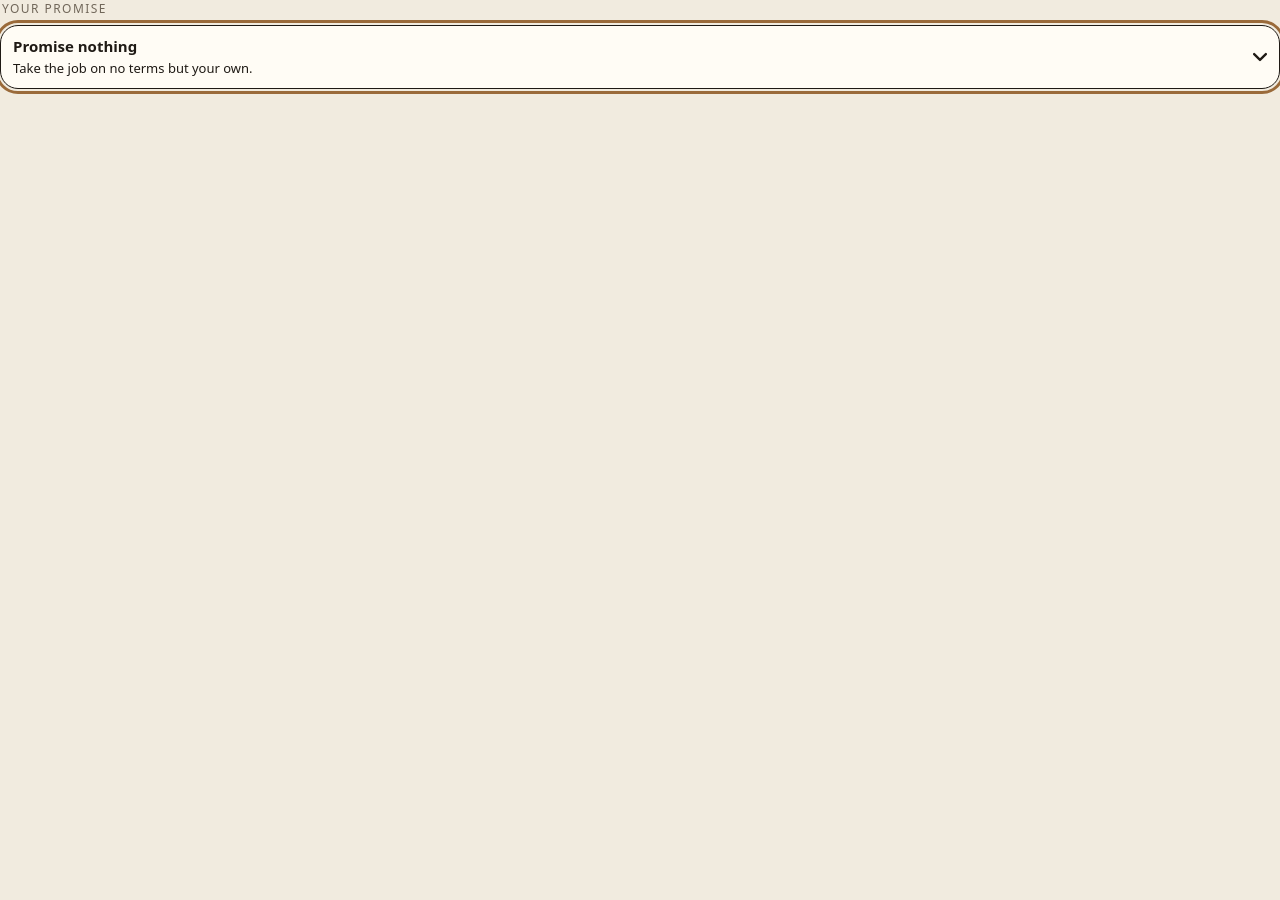
Test: a second promise › lets go of a second that cannot stand beside a new first, and keeps one that can
Later steps or results of the test are not shown.
Click the button with class "mandate-current". click: (75, 46)
box: [0,25,1279,89]
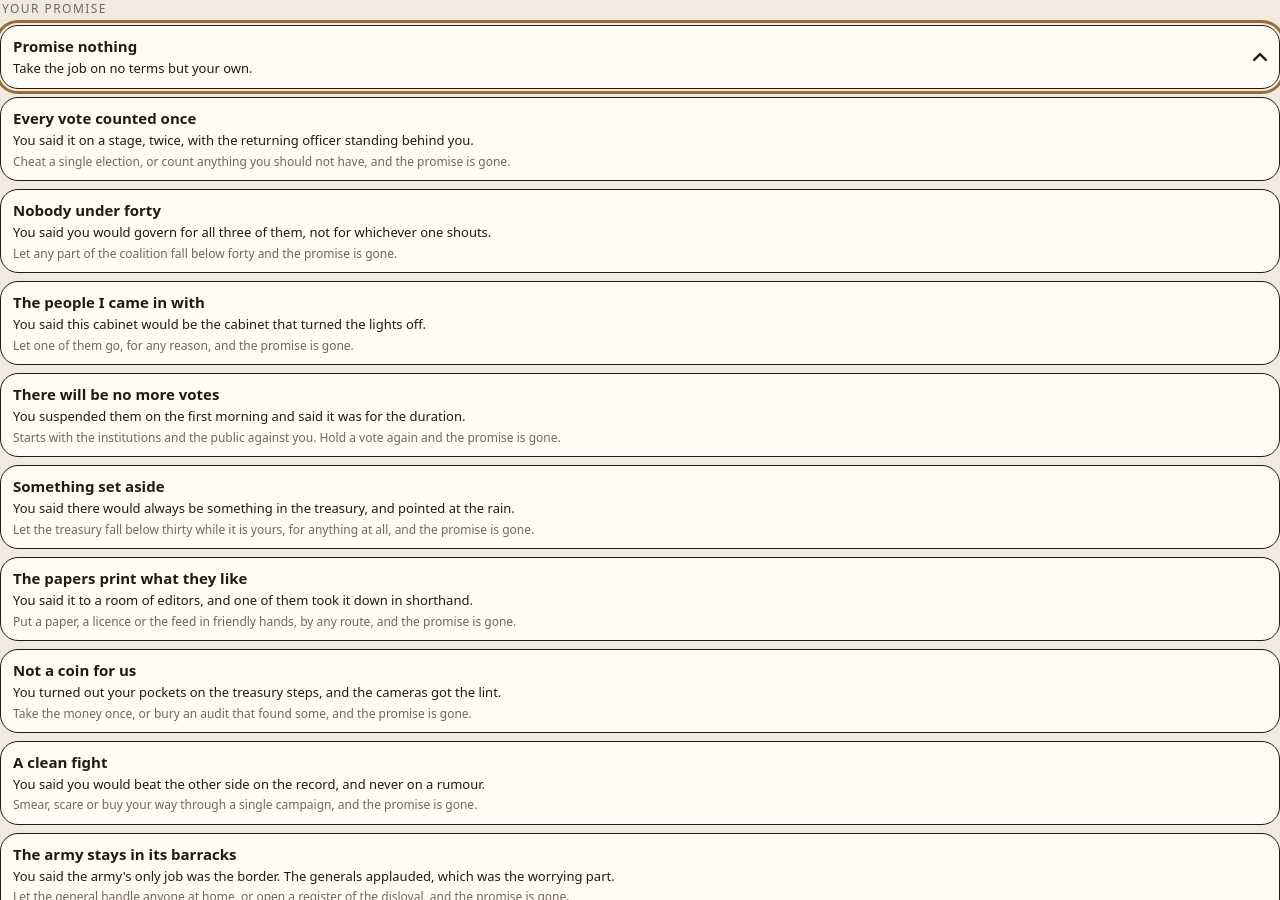
Click the button "The people I came in with". click: (109, 302)
box: [0,281,1279,365]
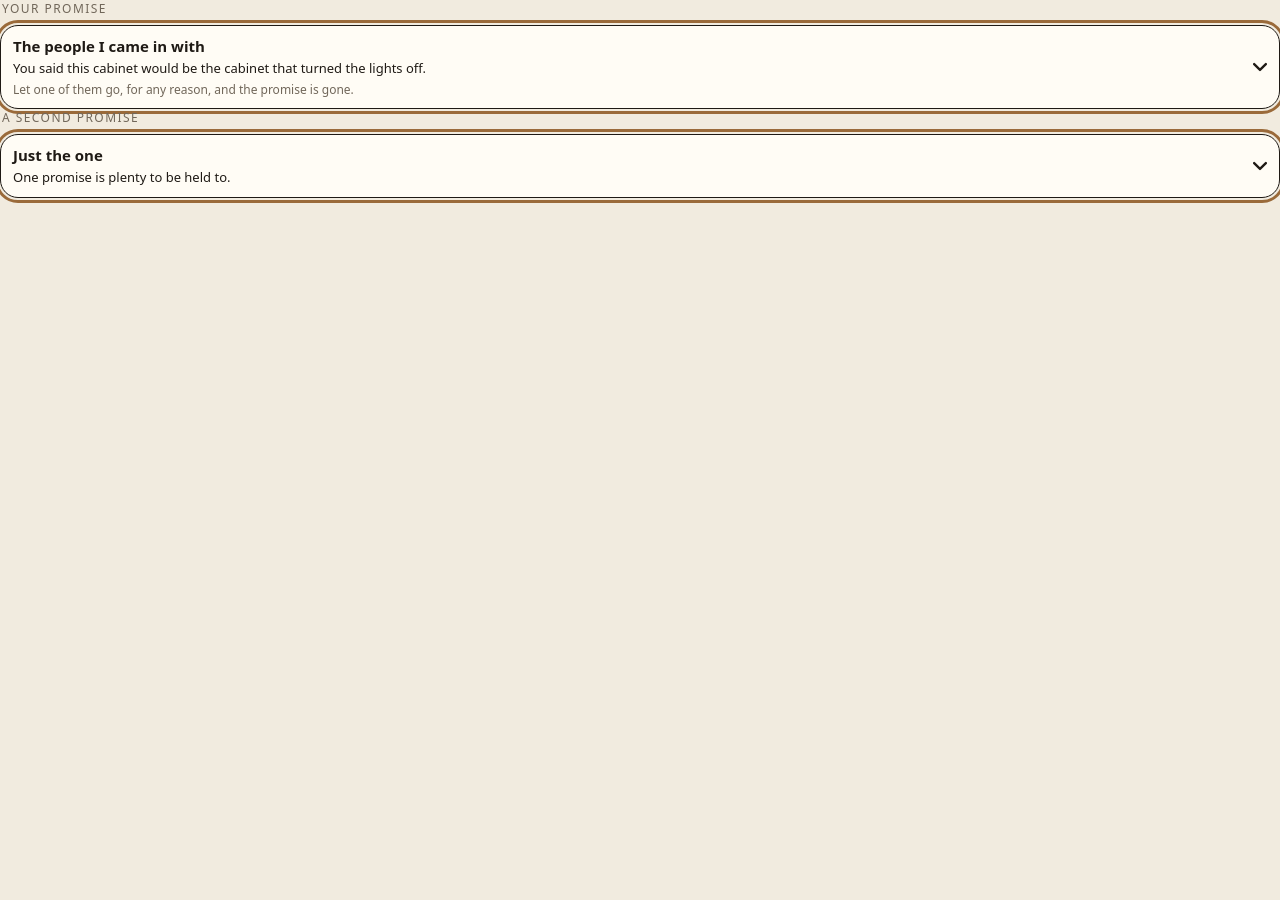
Click the button with class "mandate-current" that starts with "Just the one". click: (58, 155)
box: [0,134,1279,198]
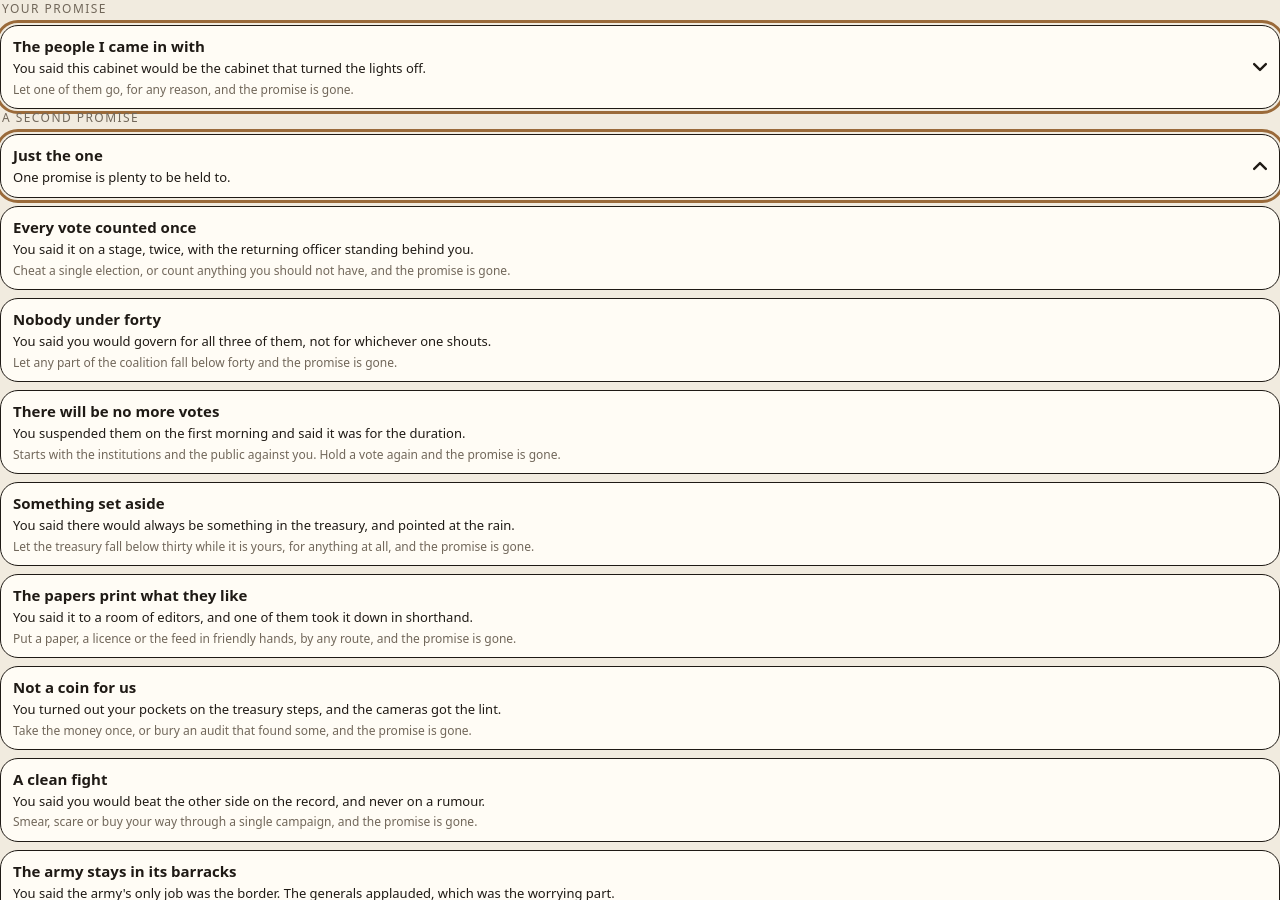
Click the button "There will be no more votes". click: (116, 411)
box: [0,390,1279,474]
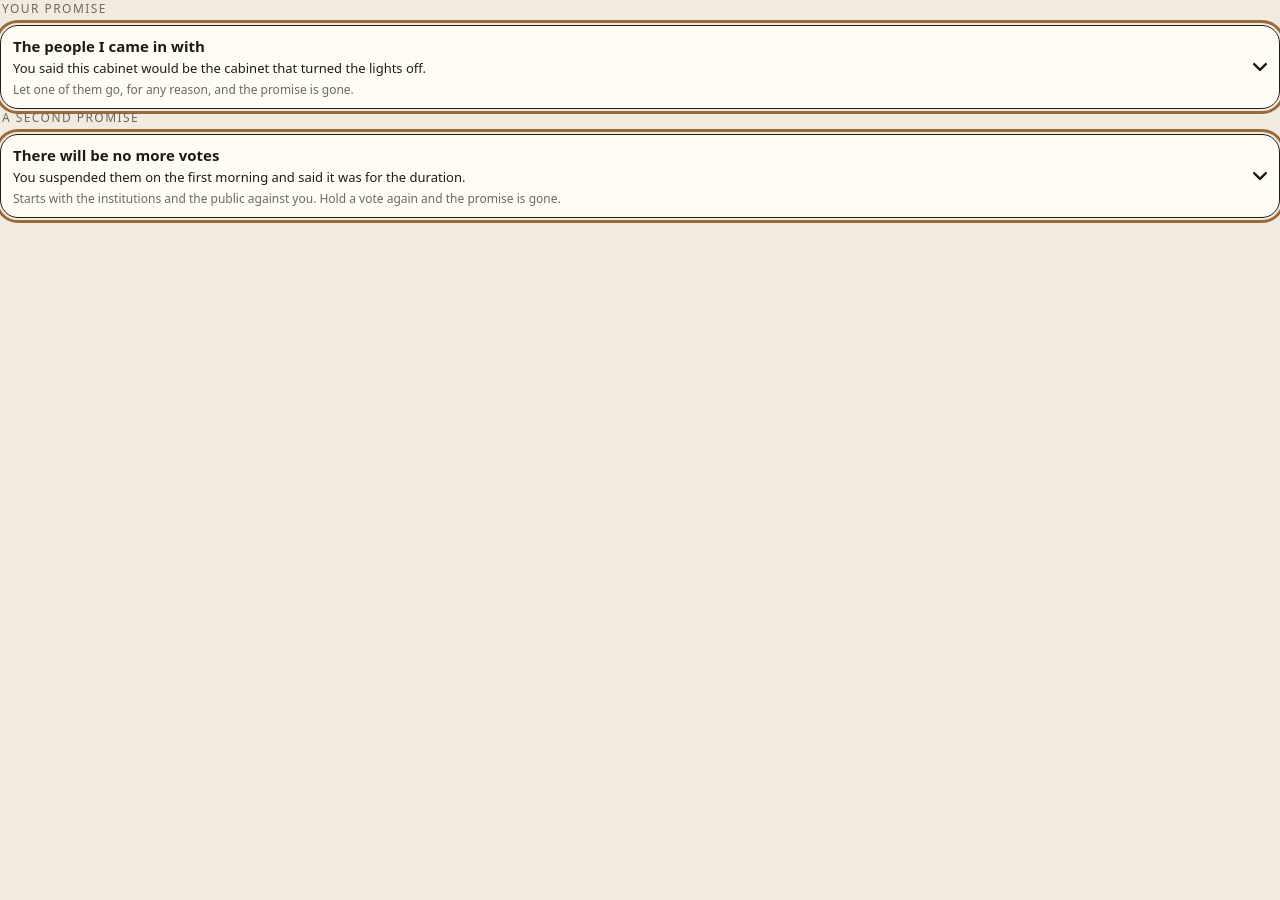
Click the button with class "mandate-current" that starts with "The people I came in with". click: (109, 46)
box: [0,25,1279,109]
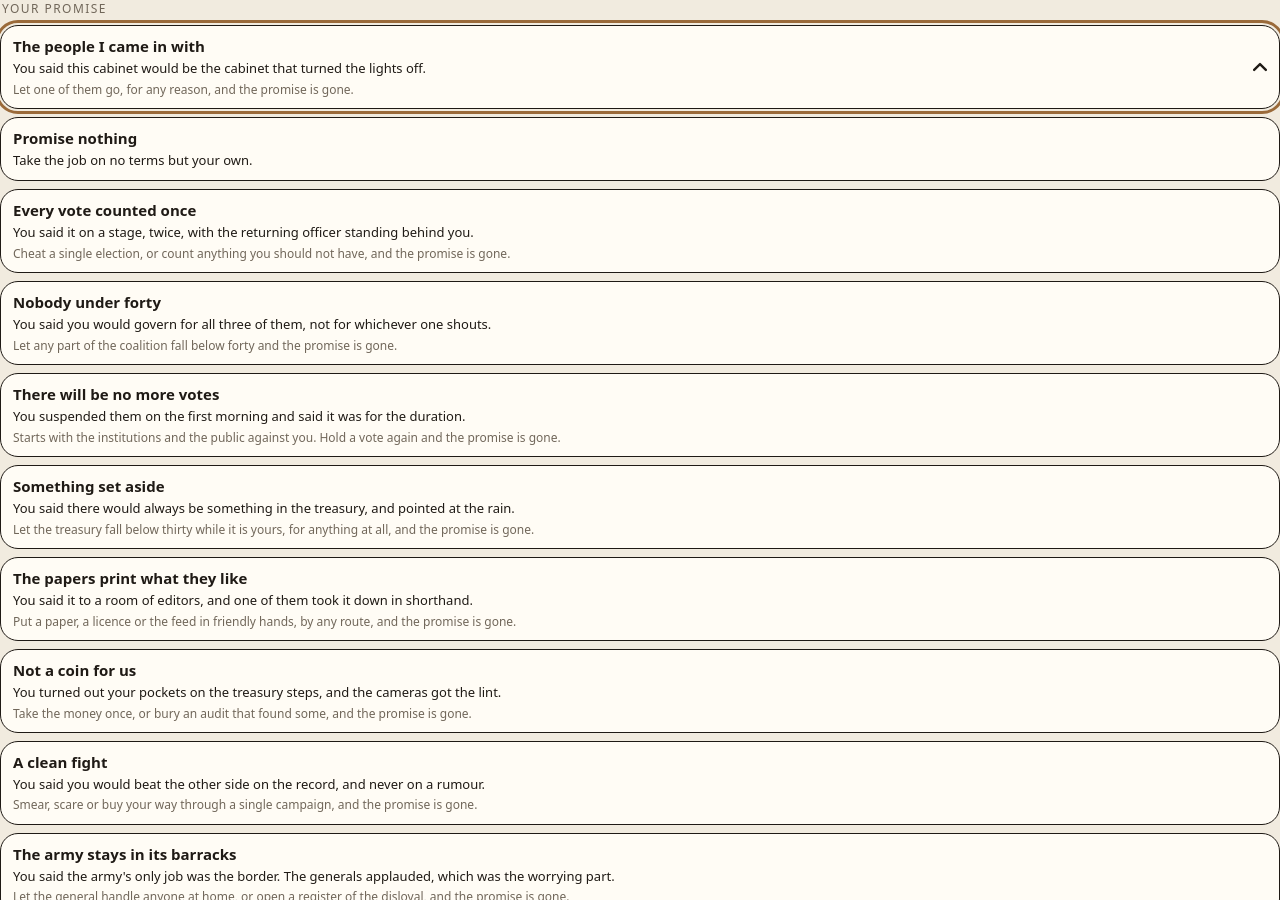
Click the button "Every vote counted once". click: (105, 210)
box: [0,189,1279,273]
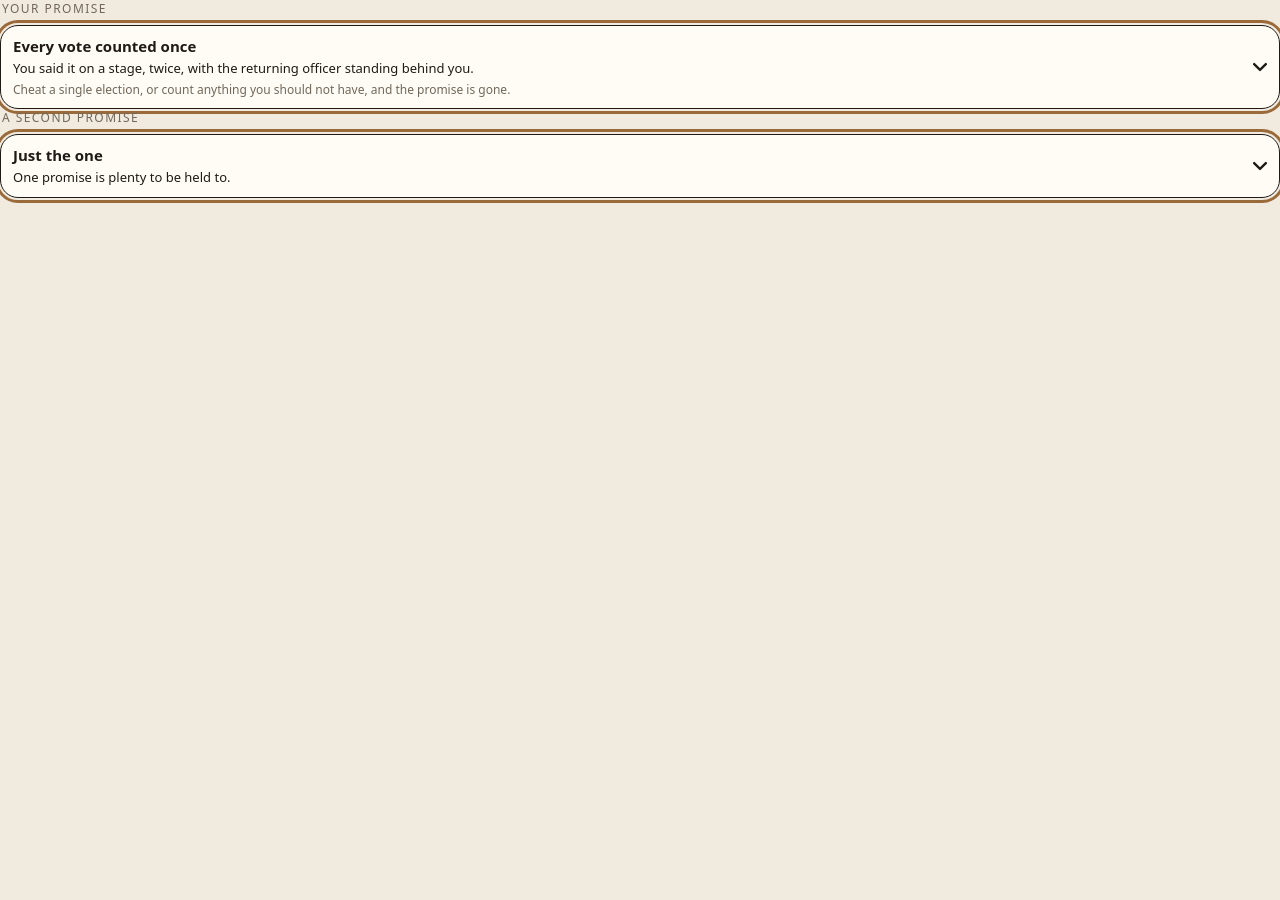
Expected: the button with class "mandate-current" shows "Just the one", [0,134,1279,198]
